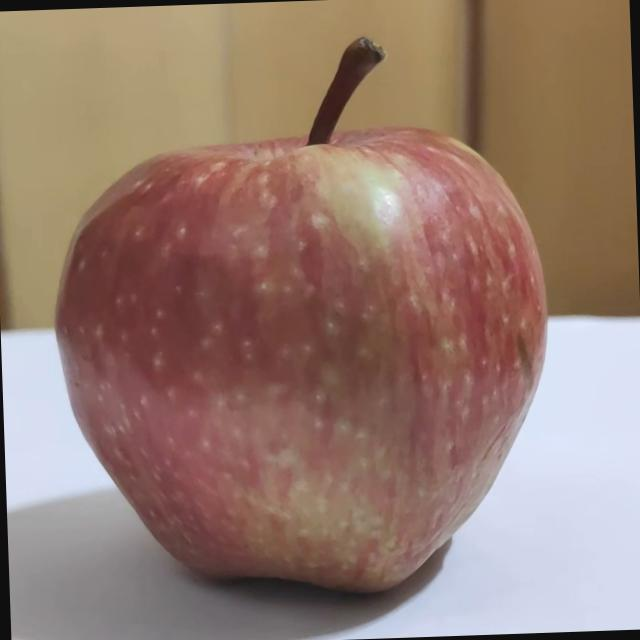apple: (12, 17, 620, 638)
